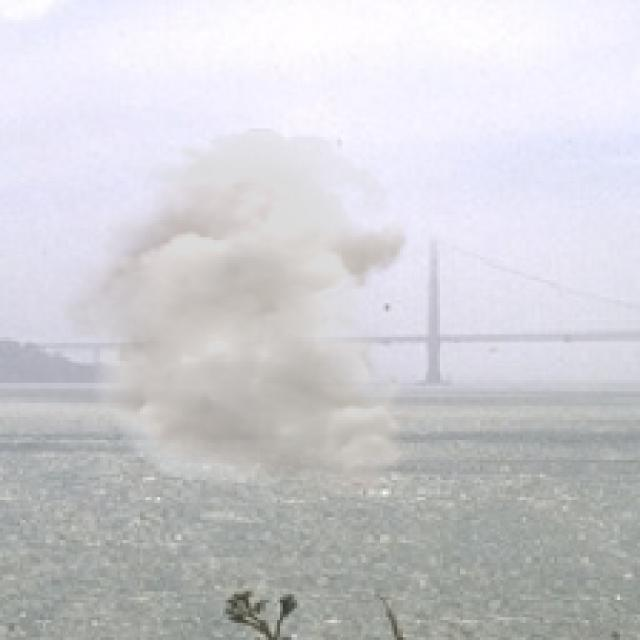smoke: (43, 129, 420, 500)
